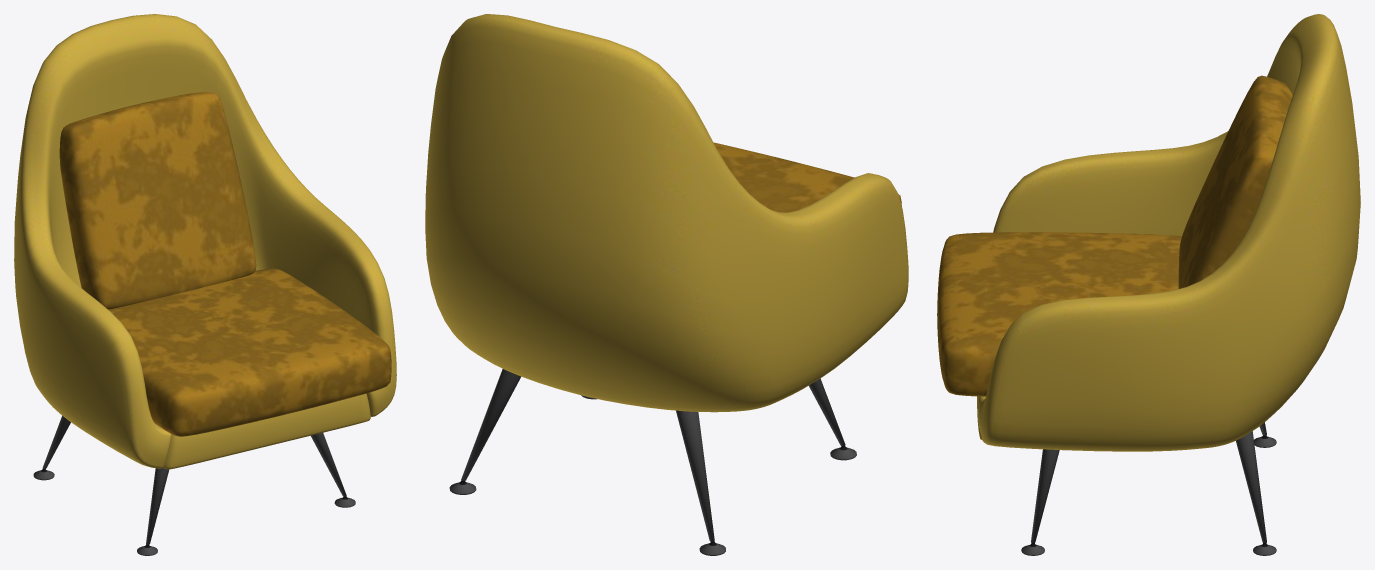
File: armchair2.obj
3 renders of one model, left to right at view 1: azimuth 30°, elevation 25°; view 2: azimuth 150°, elevation 25°; view 3: azimuth 270°, elevation 25°, orthographic. The views are drawn at different scales.
Visible parts, largest first — view 1: butaque.002_Cube.218, butaque_potes.002_Tube.012; view 2: butaque.002_Cube.218, butaque_potes.002_Tube.012; view 3: butaque.002_Cube.218, butaque_potes.002_Tube.012.
Boxes of the visible parts, x1=… form: butaque.002_Cube.218: x1=14, y1=14, x2=396, y2=469; butaque_potes.002_Tube.012: x1=33, y1=415, x2=355, y2=555; butaque.002_Cube.218: x1=425, y1=14, x2=908, y2=412; butaque_potes.002_Tube.012: x1=449, y1=369, x2=856, y2=555; butaque.002_Cube.218: x1=937, y1=14, x2=1360, y2=451; butaque_potes.002_Tube.012: x1=1021, y1=422, x2=1276, y2=555.
Size of the model in its own units: 72.79 by 97.03 by 81.18.
4 materials, 2 textured.
